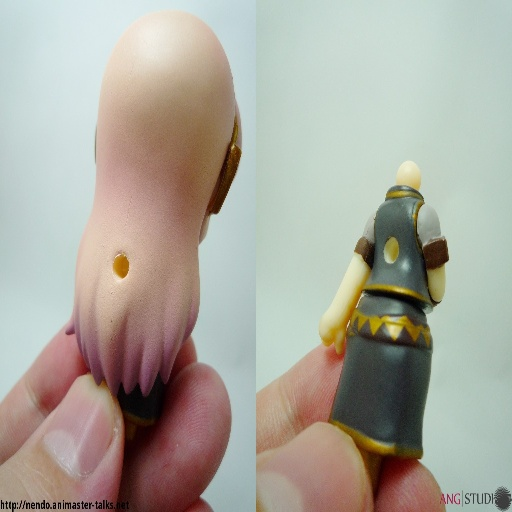hand: (0, 317, 232, 511), (256, 333, 446, 511)
